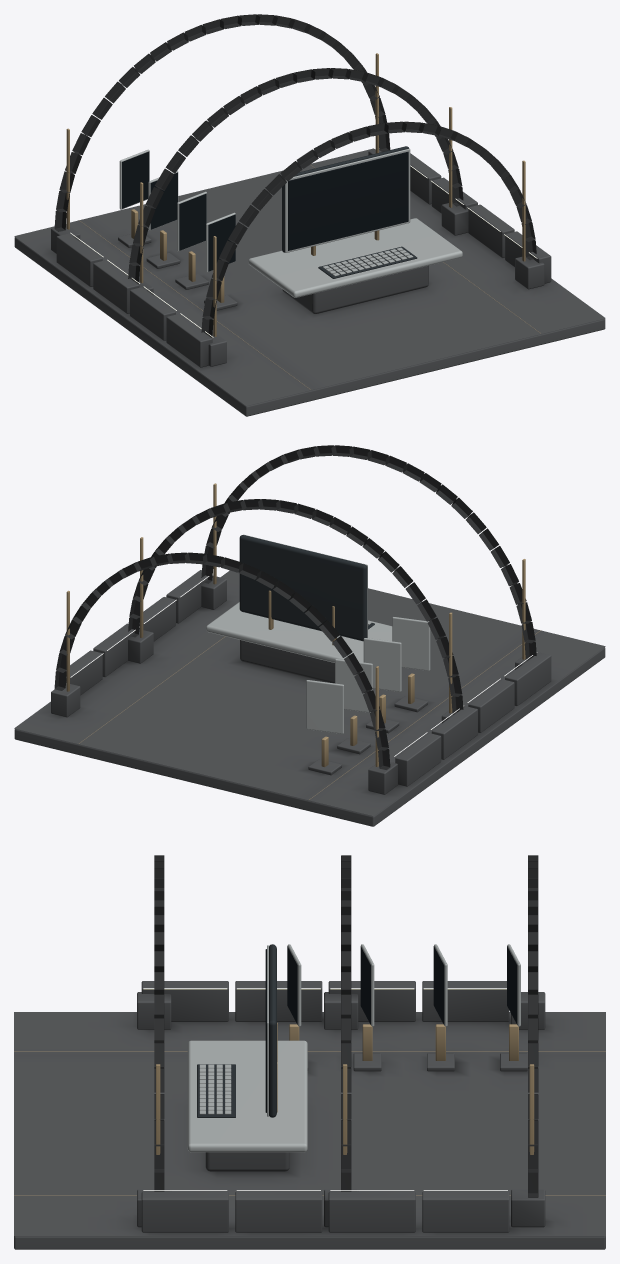
File: 01-brief.glb
3 renders of one model, top to bottom at view 1: azimuth 30°, elevation 25°; view 2: azimuth 150°, elevation 25°; view 3: azimuth 270°, elevation 25°, orthographic. The views are drawn at different scales.
Parts seen in each view (by area): view 1: Baked contact floor.001, Monitor black glass, Precision desk slab, Architectural floor.001, Monolithic desk foot, Wall base, Wall base.003, Wall base.002, Wall base.005, Wall base.001, CONTEXT_1 inner, CONTEXT_3 inner (+10 smaller); view 2: Baked contact floor.001, Monitor housing, Architectural floor.001, Precision desk slab, Monolithic desk foot, CONTEXT_3 backing, CONTEXT_0 backing, CONTEXT_1 backing, Wall base.003, Wall base, Wall base.001, Wall base.002 (+9 smaller); view 3: Baked contact floor.001, Precision desk slab, Architectural floor.001, Wall base.005, Wall base.007, Wall base.004, Wall base.006, Wall base.003, Wall base.001, Wall base, Wall base.002, Monolithic desk foot (+11 smaller).
Part boxes in pixels (box(x1,y1,x2,y2)): Baked contact floor.001: box(14, 148, 605, 405); Monitor black glass: box(288, 151, 408, 250); Precision desk slab: box(248, 218, 462, 297); Architectural floor.001: box(14, 237, 605, 416); Monolithic desk foot: box(282, 265, 428, 313); Wall base: box(166, 314, 212, 367); Wall base.003: box(56, 233, 102, 286); Wall base.002: box(93, 260, 139, 313); Wall base.005: box(468, 204, 514, 257); Wall base.001: box(130, 287, 175, 340); CONTEXT_1 inner: box(179, 193, 206, 250); CONTEXT_3 inner: box(122, 151, 149, 208); Baked contact floor.001: box(14, 570, 605, 816); Monitor housing: box(239, 535, 367, 641); Architectural floor.001: box(14, 647, 605, 826); Precision desk slab: box(206, 602, 392, 662); Monolithic desk foot: box(240, 640, 334, 683); CONTEXT_3 backing: box(306, 680, 343, 733); CONTEXT_0 backing: box(392, 617, 430, 670); CONTEXT_1 backing: box(363, 638, 401, 691); Wall base.003: box(395, 733, 441, 786); Wall base: box(505, 652, 551, 705); Wall base.001: box(468, 679, 514, 732); Wall base.002: box(431, 706, 477, 759); Baked contact floor.001: box(14, 1012, 605, 1235); Precision desk slab: box(187, 1040, 307, 1152); Architectural floor.001: box(14, 1236, 605, 1249); Wall base.005: box(235, 1191, 322, 1232); Wall base.007: box(422, 1191, 509, 1232); Wall base.004: box(141, 1191, 228, 1232); Wall base.006: box(328, 1191, 415, 1232); Wall base.003: box(422, 981, 509, 1021); Wall base.001: box(235, 981, 322, 1021); Wall base: box(141, 981, 228, 1021); Wall base.002: box(328, 981, 415, 1021); Monolithic desk foot: box(205, 1152, 289, 1171).
Bounding box in the file's own units: 34 × 18.45 × 38.
